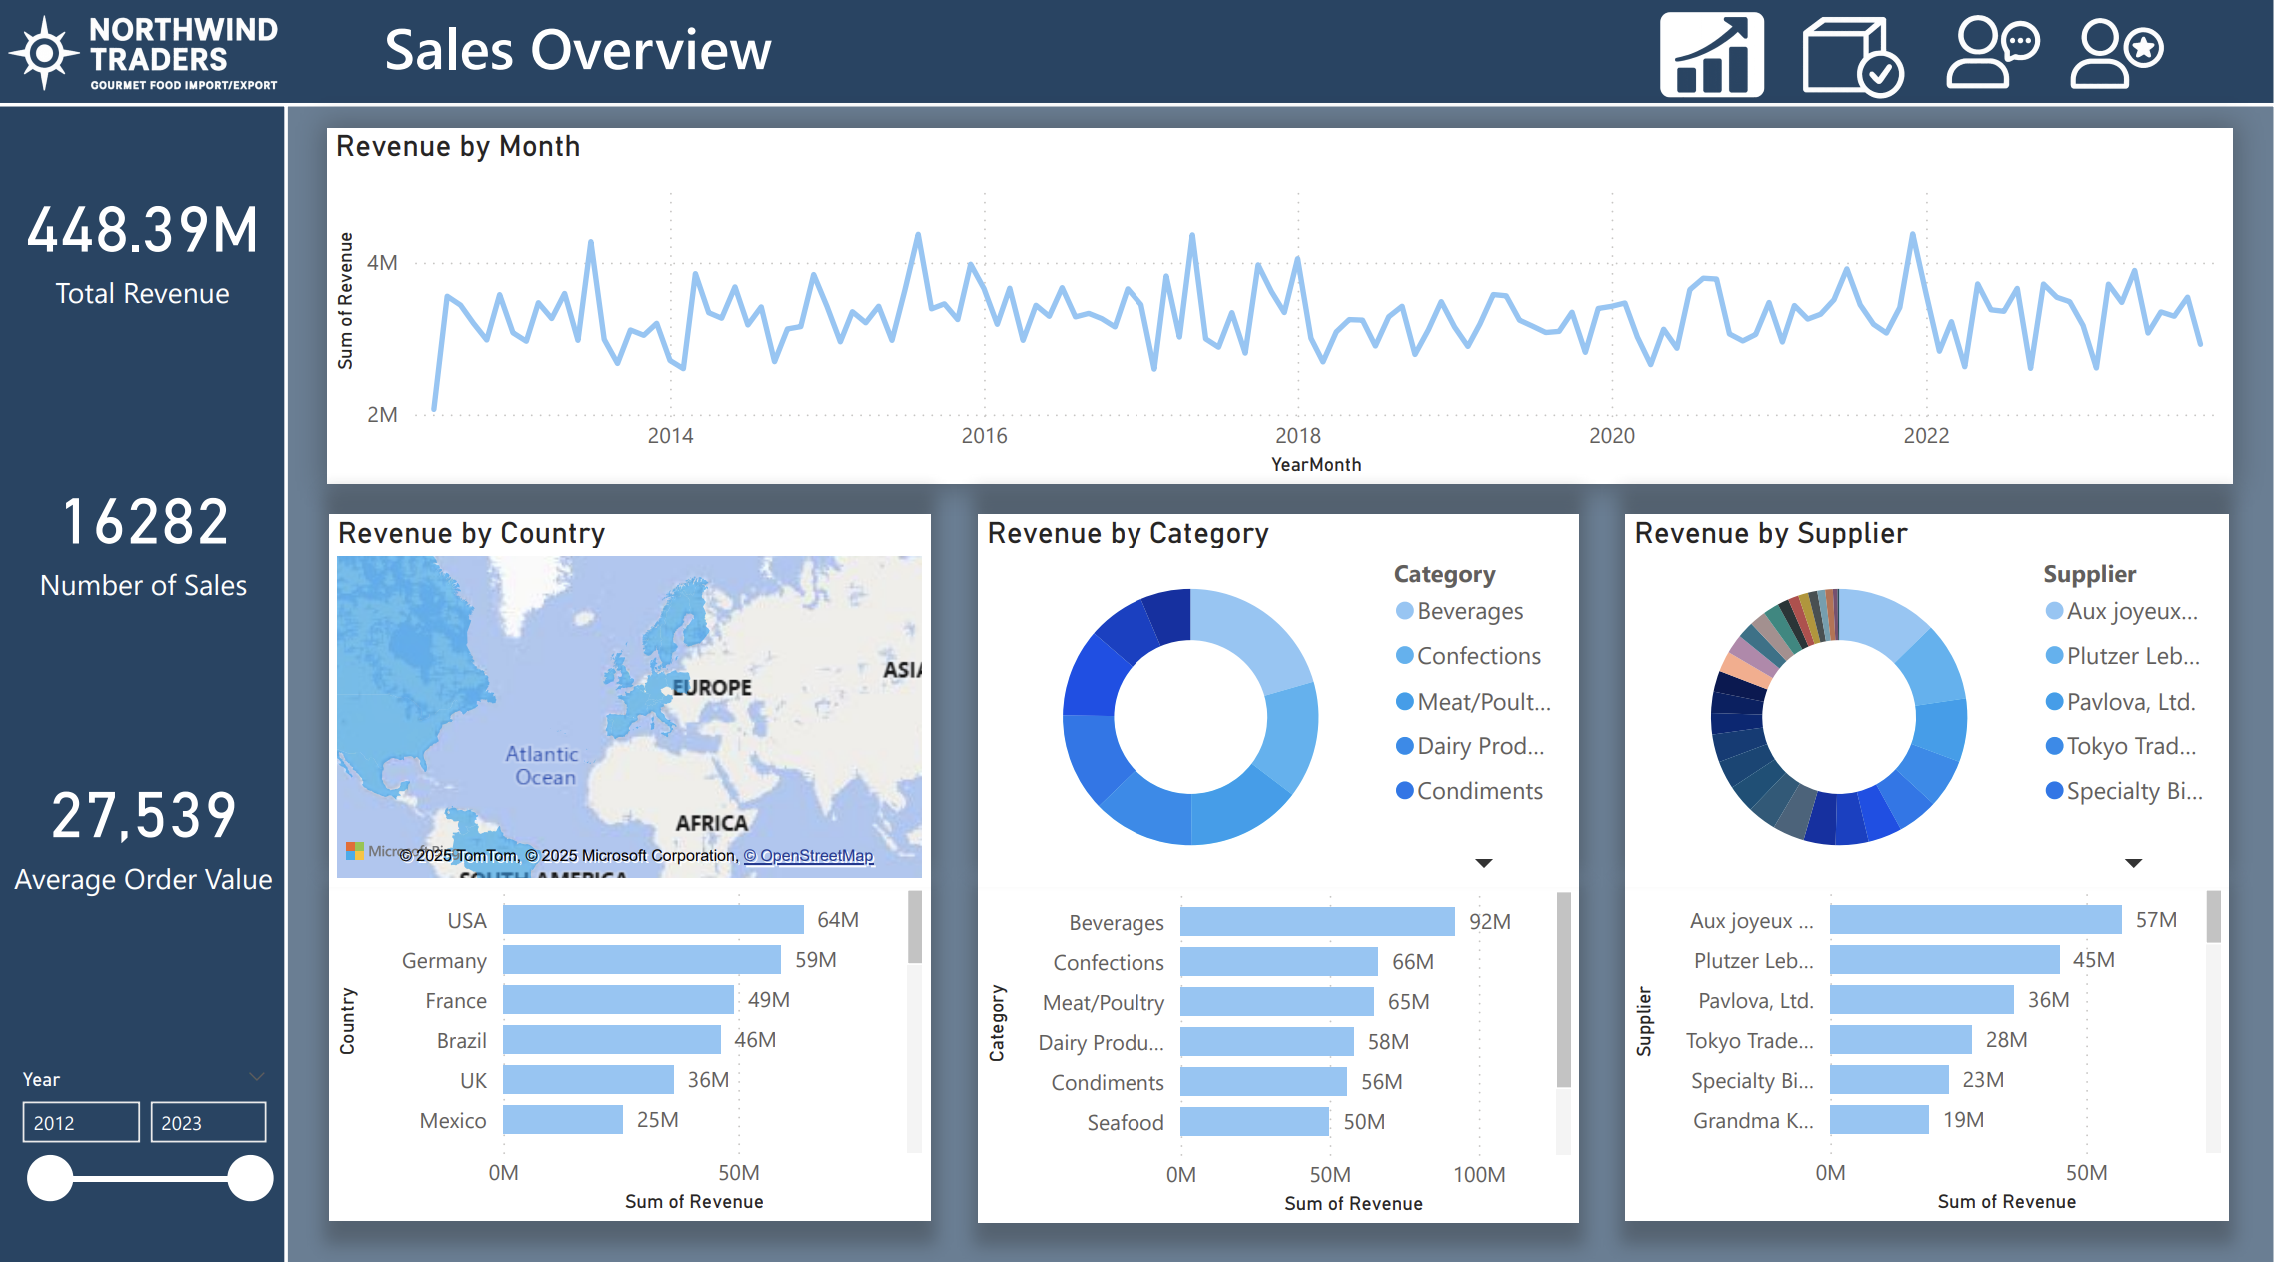

The dashboard page shown, as its layout file describes it:
{"tool":"powerbi","page":{"name":"Sales Overview","canvas":[1280,720],"ordinal":0},"visuals":[{"type":"shape","box":[0,7.8,1280,60.3],"z":0},{"type":"image","box":[0,7.8,163.4,60.3],"z":1000},{"type":"textbox","box":[212,7.8,238.3,60.3],"z":2000},{"type":"shape","box":[162.4,68.1,1117.6,651.7],"z":3000},{"type":"lineChart","title":"Revenue by Month","fields":{"Y":["Sum(salesbycountry.Revenue)"],"Category":["salesbycountry.YearMonth.Variation.Date Hierarchy.Year"]},"box":[184.8,80.7,1070.9,200.4],"z":4000},{"type":"shape","box":[0,68.1,162.4,651.7],"z":5000},{"type":"clusteredBarChart","fields":{"Category":["salesbycountry.Country"],"Y":["Sum(salesbycountry.Revenue)"]},"box":[185.8,496,338.5,199.4],"z":6000},{"type":"card","fields":{"Values":["Sum(salesbycountry.Revenue)"]},"box":[0,94.3,163.4,102.1],"z":7000},{"type":"filledMap","title":"Revenue by Country","fields":{"Category":["salesbycountry.Country"]},"box":[185.8,297.6,338.5,209.1],"z":8000},{"type":"card","fields":{"Values":["Sum(salesbycountry.NumberOfSales)"]},"box":[0,257.8,163.9,101.9],"z":9000},{"type":"slicer","fields":{"Values":["Dates.YearMonth.Variation.Date Hierarchy.Year"]},"box":[1,604,162.4,115.7],"z":10000},{"type":"clusteredBarChart","fields":{"Category":["salesbycategory.Category"],"Y":["Sum(salesbycategory.Revenue)"]},"box":[550.5,497,338.5,199.4],"z":11000},{"type":"donutChart","title":"Revenue by Category","fields":{"Category":["salesbycategory.Category"],"Y":["Sum(salesbycategory.Revenue)"]},"box":[550.5,297.6,338.5,209.1],"z":12000},{"type":"clusteredBarChart","fields":{"Y":["Sum(sales_by_supplier.Revenue)"],"Category":["sales_by_supplier.Supplier"]},"box":[915.3,496,338.5,199.4],"z":13000},{"type":"donutChart","title":"Revenue by Supplier","fields":{"Y":["Sum(sales_by_supplier.Revenue)"],"Category":["sales_by_supplier.Supplier"]},"box":[915.3,297.6,338.5,209.1],"z":14000},{"type":"card","fields":{"Values":["salesbycountry.Sum of Revenue divided by Sum of NumberOfSales"]},"box":[1,422.7,161.9,101.9],"z":15000},{"type":"image","box":[927.3,5,73.9,67.9],"z":16000},{"type":"image","box":[1001,0,82.4,80.5],"z":17000},{"type":"image","box":[1083.3,1,72.9,74.3],"z":18000},{"type":"image","box":[1156.2,6.2,68.6,65.7],"z":19000}]}

Visuals, with their boxes in screenshot pixels (x1, y1, x2, y2), scaled from the page's 1280x720 canvas onto the 2274x1262 screenshot:
shape: <box>0,14,2273,119</box>
image: <box>0,14,290,119</box>
textbox: <box>377,14,800,119</box>
shape: <box>289,119,2273,1261</box>
"Revenue by Month" lineChart: <box>328,141,2231,493</box>
shape: <box>0,119,289,1261</box>
clusteredBarChart - salesbycountry.Country x Sum(salesbycountry.Revenue): <box>330,869,931,1219</box>
card - Sum(salesbycountry.Revenue): <box>0,165,290,344</box>
"Revenue by Country" filledMap: <box>330,522,931,888</box>
card - Sum(salesbycountry.NumberOfSales): <box>0,452,291,630</box>
slicer - Dates.YearMonth.Variation.Date Hierarchy.Year: <box>2,1059,290,1261</box>
clusteredBarChart - salesbycategory.Category x Sum(salesbycategory.Revenue): <box>978,871,1579,1221</box>
"Revenue by Category" donutChart: <box>978,522,1579,888</box>
clusteredBarChart - Sum(sales_by_supplier.Revenue) x sales_by_supplier.Supplier: <box>1626,869,2227,1219</box>
"Revenue by Supplier" donutChart: <box>1626,522,2227,888</box>
card - salesbycountry.Sum of Revenue divided by Sum of NumberOfSales: <box>2,741,289,920</box>
image: <box>1647,9,1779,128</box>
image: <box>1778,0,1925,141</box>
image: <box>1925,2,2054,132</box>
image: <box>2054,11,2176,126</box>
